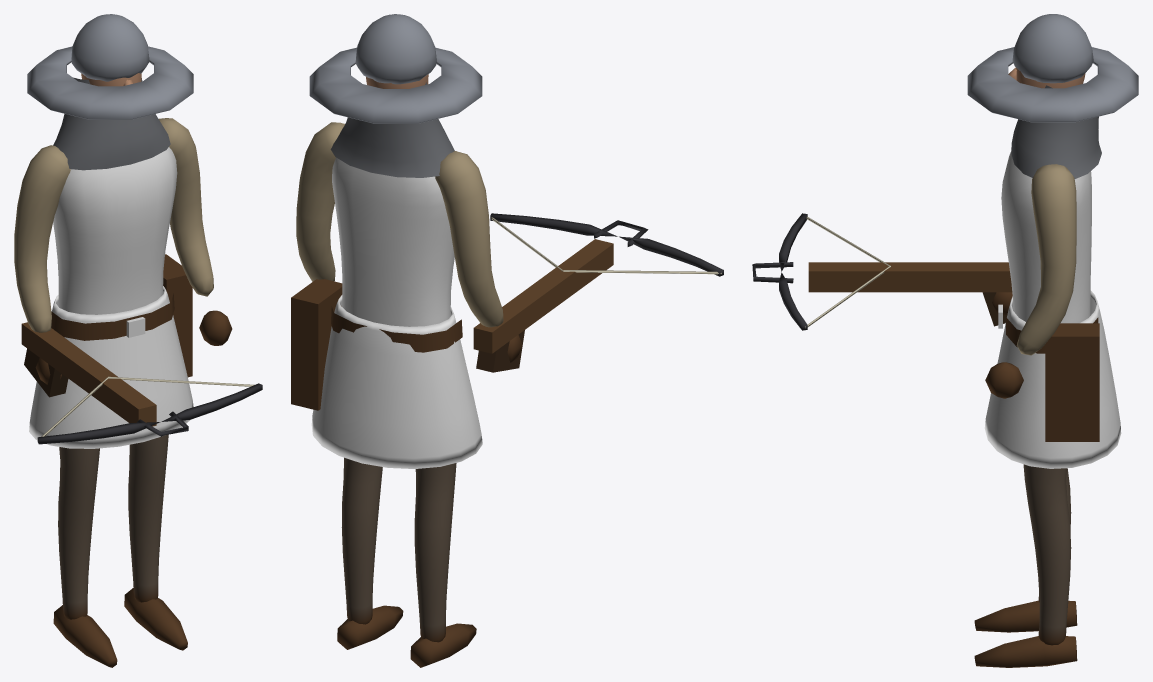
Rendered from archer_1.glb.
3 renders of one model, left to right at view 1: azimuth 30°, elevation 25°; view 2: azimuth 150°, elevation 25°; view 3: azimuth 270°, elevation 25°, orthographic. The views are drawn at different scales.
Parts seen in each view (by area): view 1: archer_1; view 2: archer_1; view 3: archer_1.
Part boxes in pixels (x1,y1,x2,y2): archer_1: [14, 14, 262, 667]; archer_1: [291, 14, 723, 667]; archer_1: [752, 14, 1138, 667].
Size of the model in its own units: 0.8785 by 1.8 by 0.9957.
